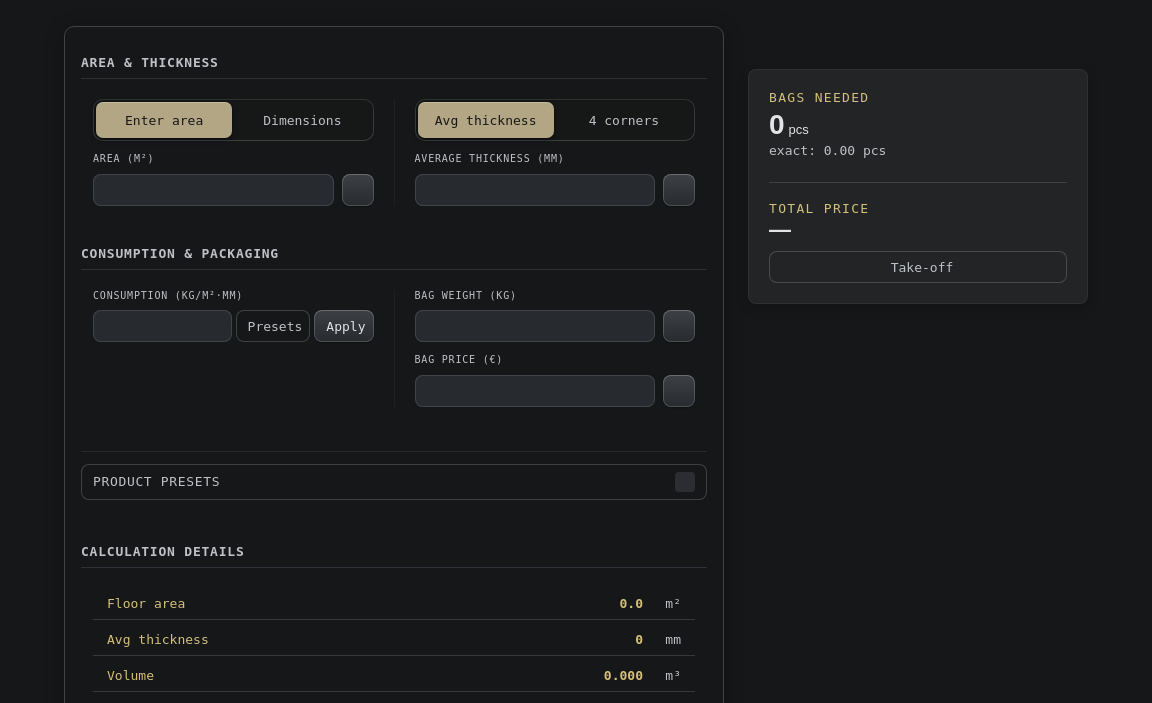
Scenario: the concrete page › shows the calculated area to the precision the printed sheet uses
Click the button "Dimensions" at (302, 120), box [234,102,371,138]
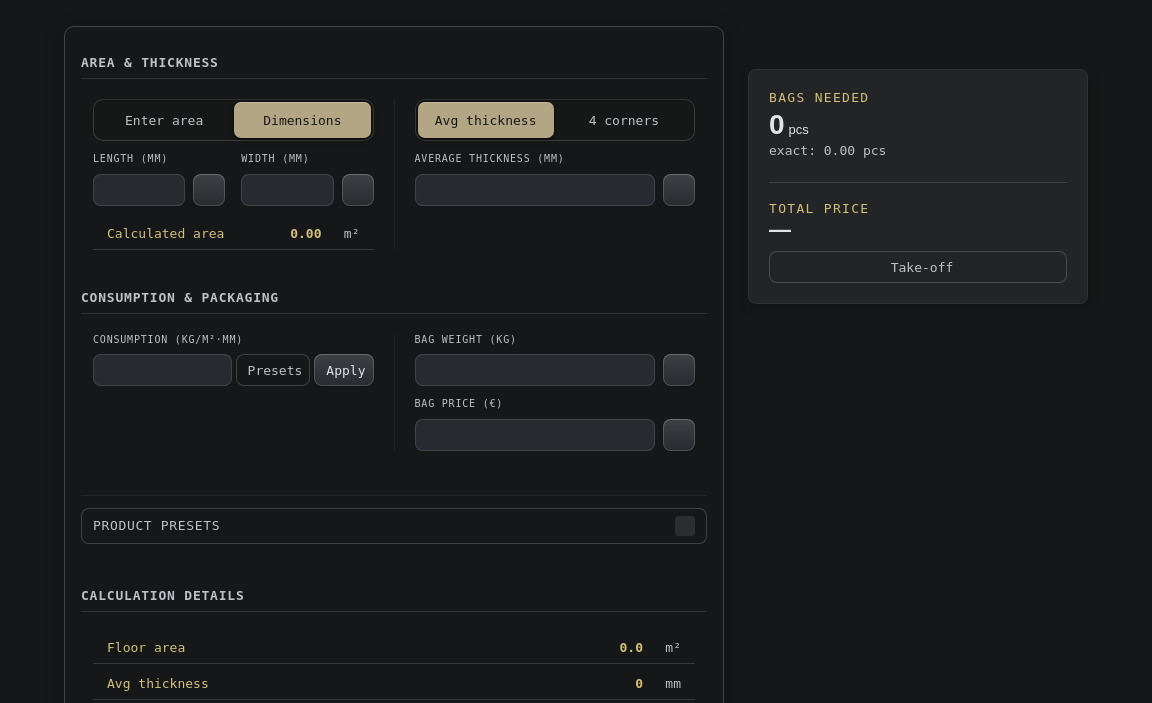
Type "1500" into the field with id "input-slf-len" at (139, 190), box [93,174,185,206]
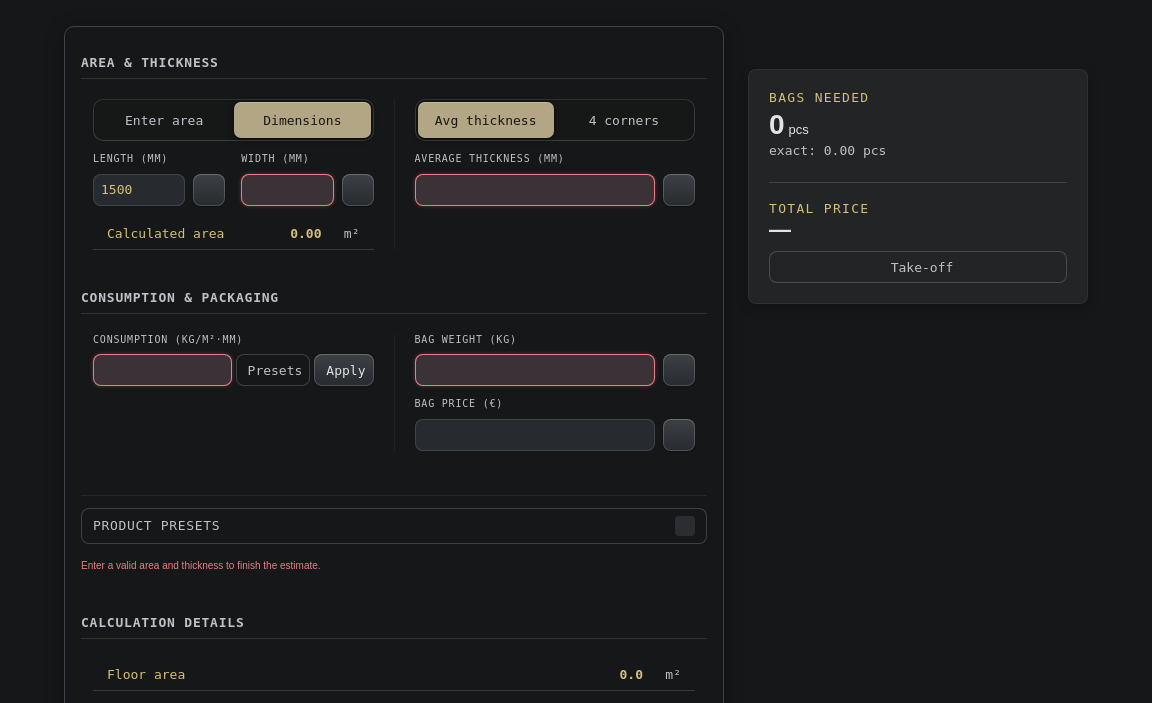
Type "1300" into the field with id "input-slf-wid" at (287, 190), box [241,174,334,206]
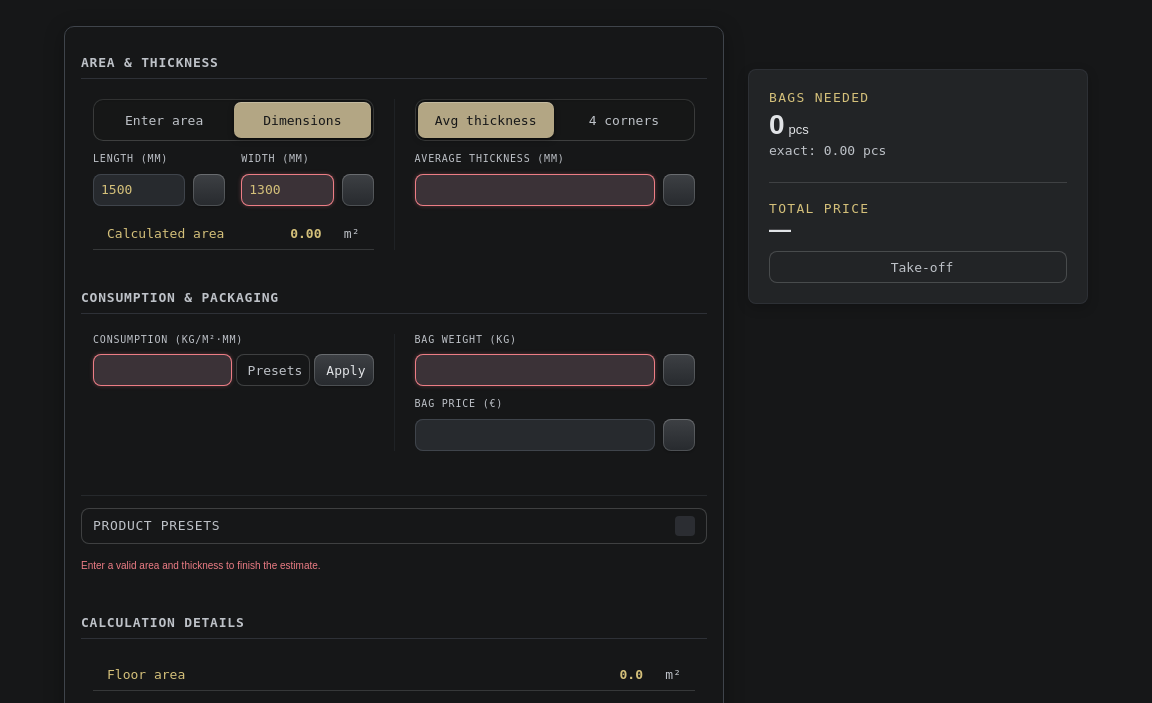
Leave the field with id "input-slf-wid", box [241,174,334,206]
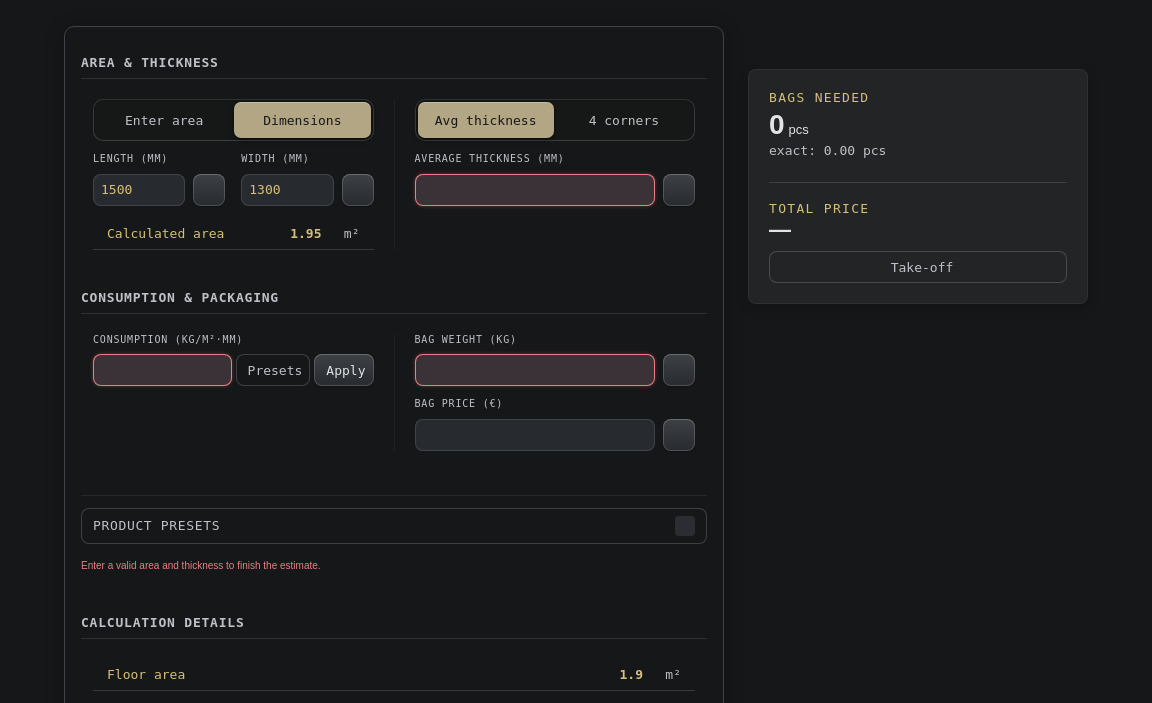
Expected: the text "Calculated area" shows "1.95", [290,226,322,240]
